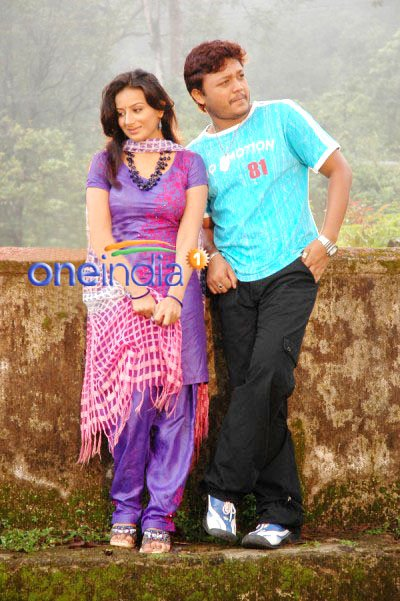noMask: (94, 64, 178, 153), (183, 41, 266, 123)
